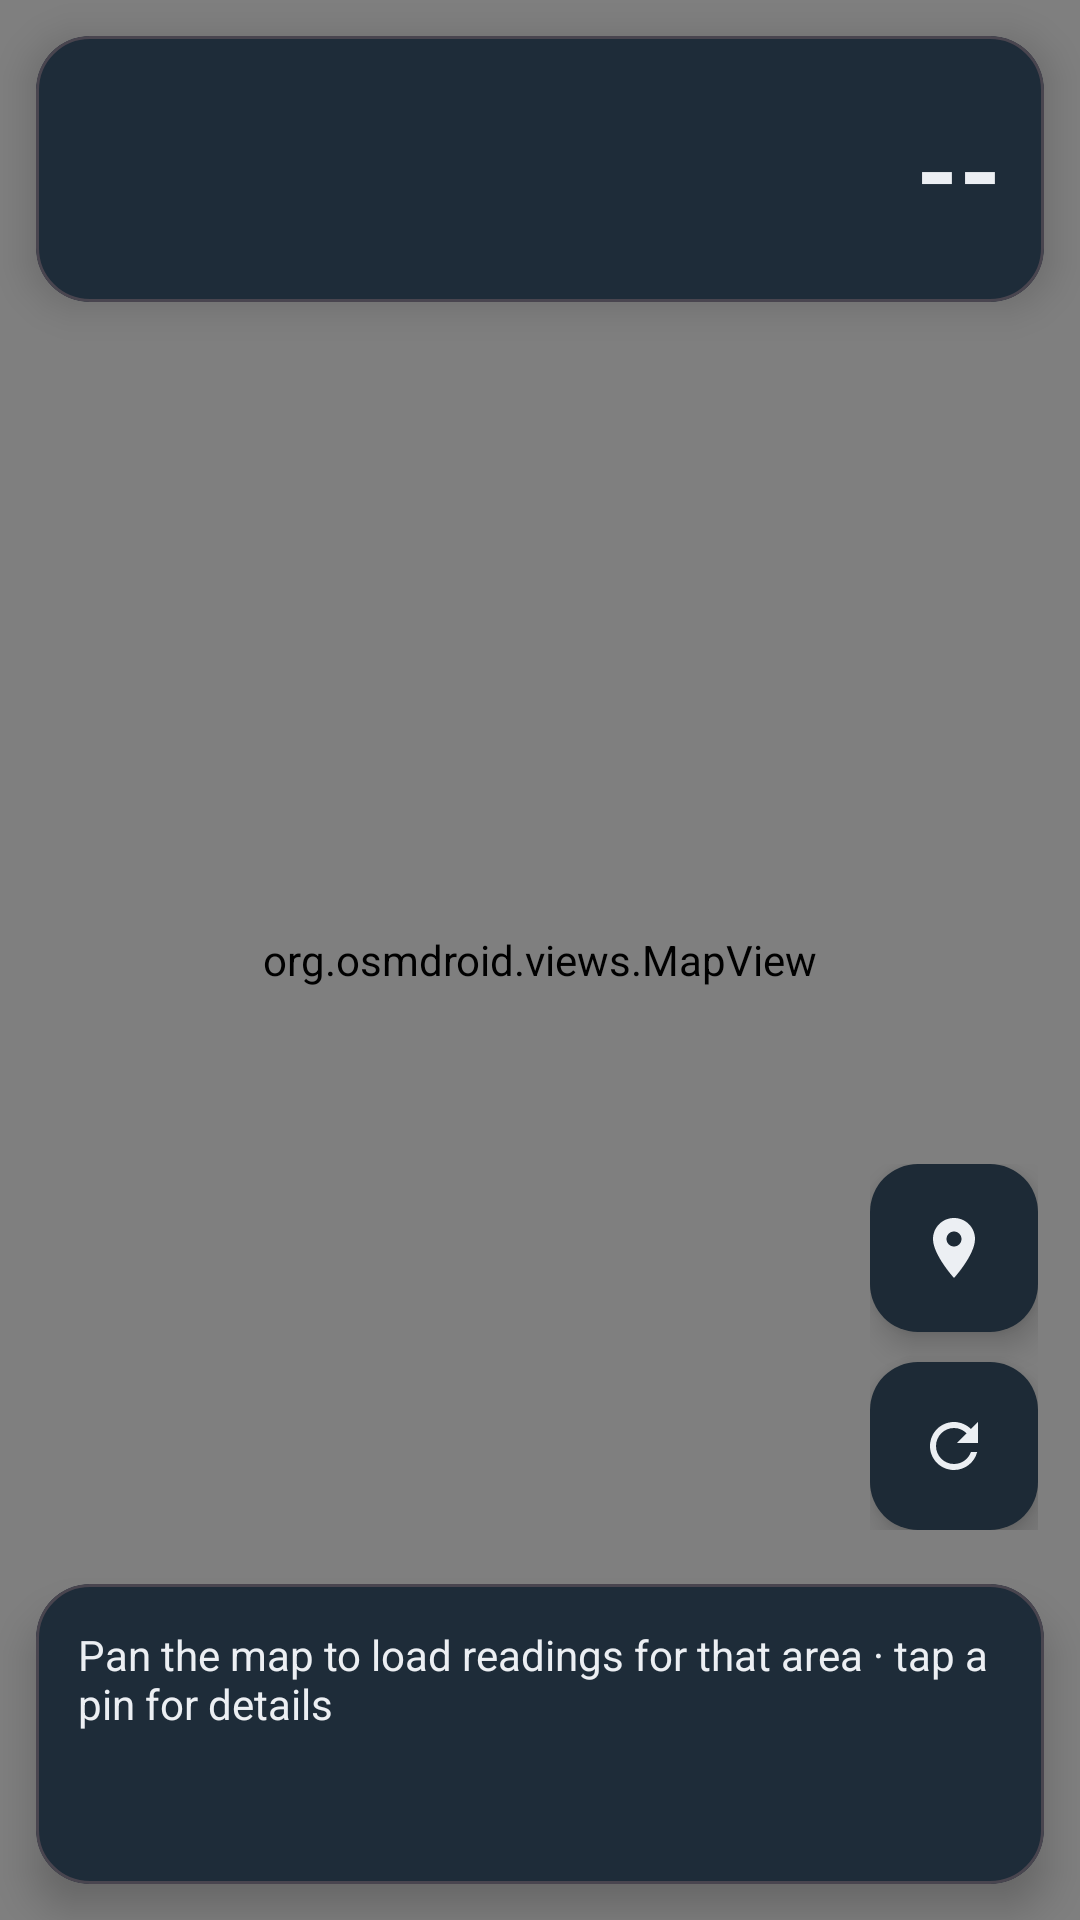

Where to tap for icons on this 1080 x 1920 app screen, as (x,y):
Back to the chosen location: (954,1248)
Refresh the map: (954,1446)
